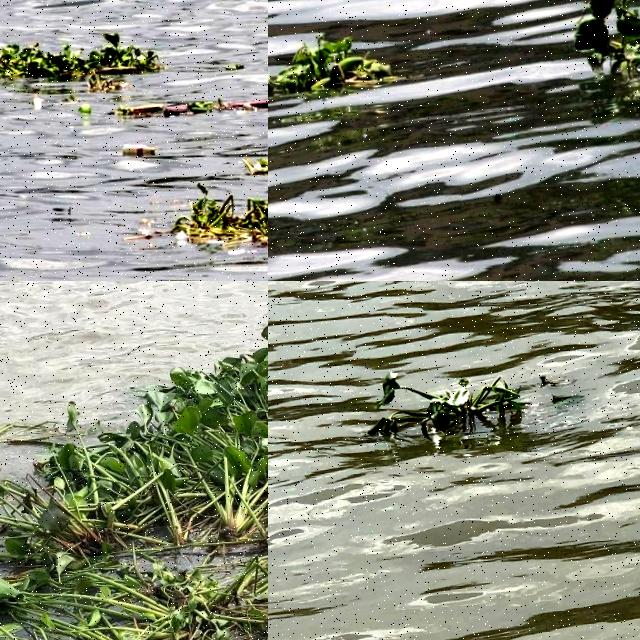plastic bottle: (121, 143, 154, 156)
water-hyacinth: (1, 315, 269, 640), (1, 522, 269, 640), (369, 352, 540, 452), (1, 20, 166, 92), (269, 29, 395, 103), (172, 181, 269, 254), (574, 1, 640, 90)
